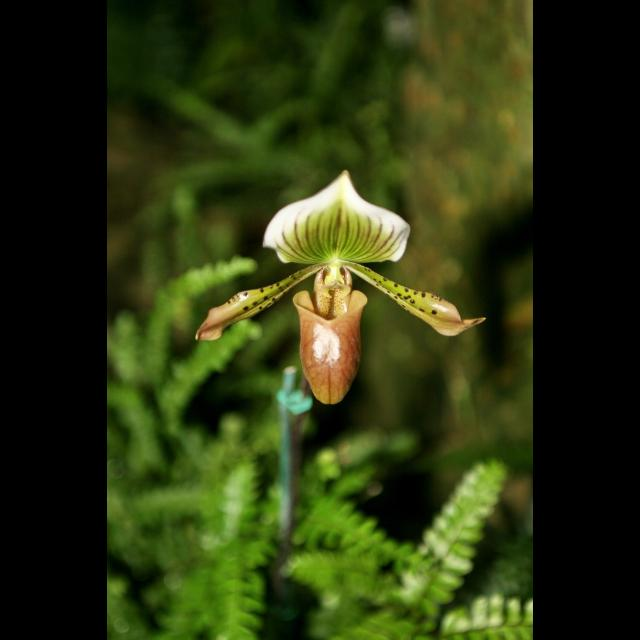Flower: (192, 168, 480, 406)
